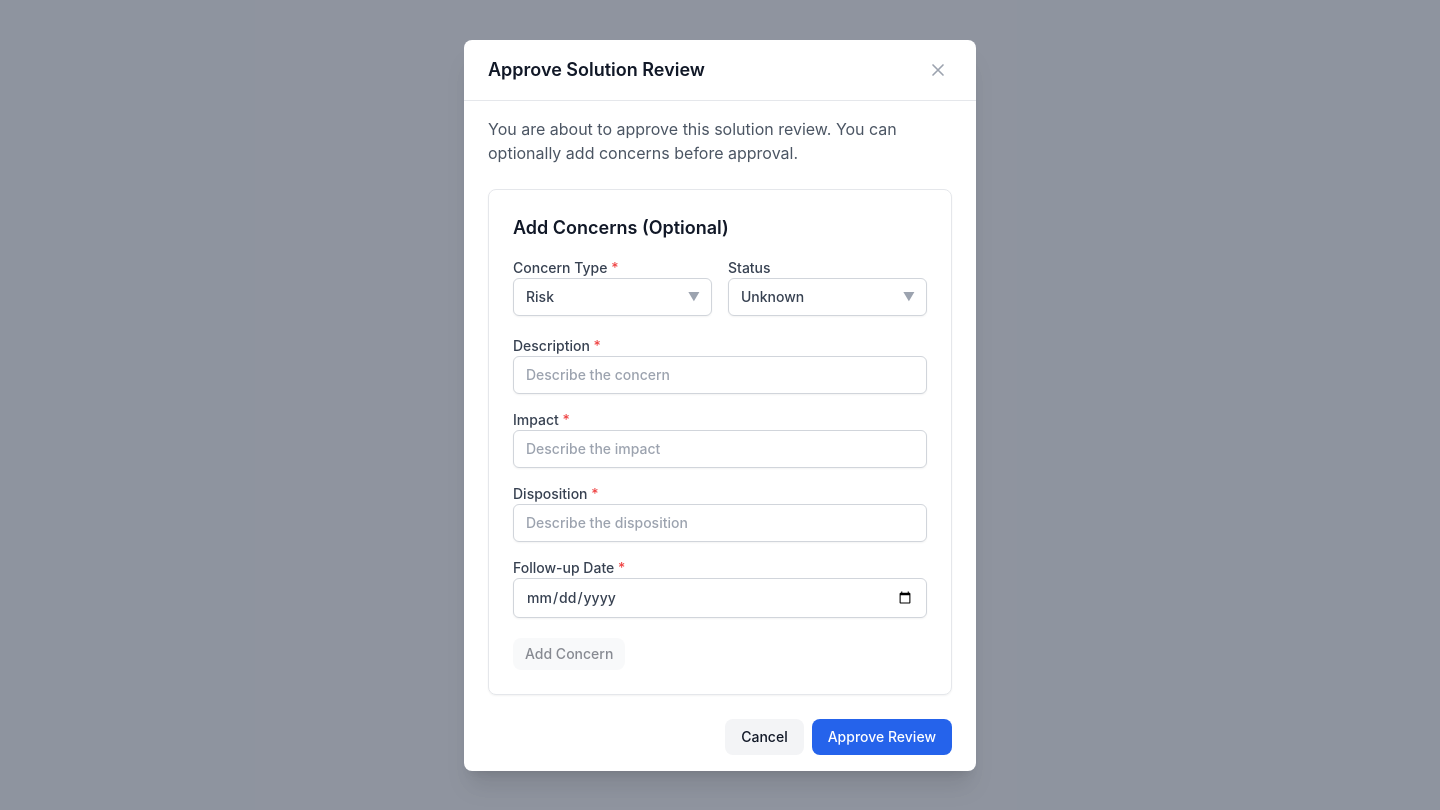
ApprovalModal › Removing Concerns › removes concern when delete button is clicked
Type "Test concern" into the field with placeholder "Describe the concern".
click(720, 374); type("Test concern")  # box [513,356,927,394]
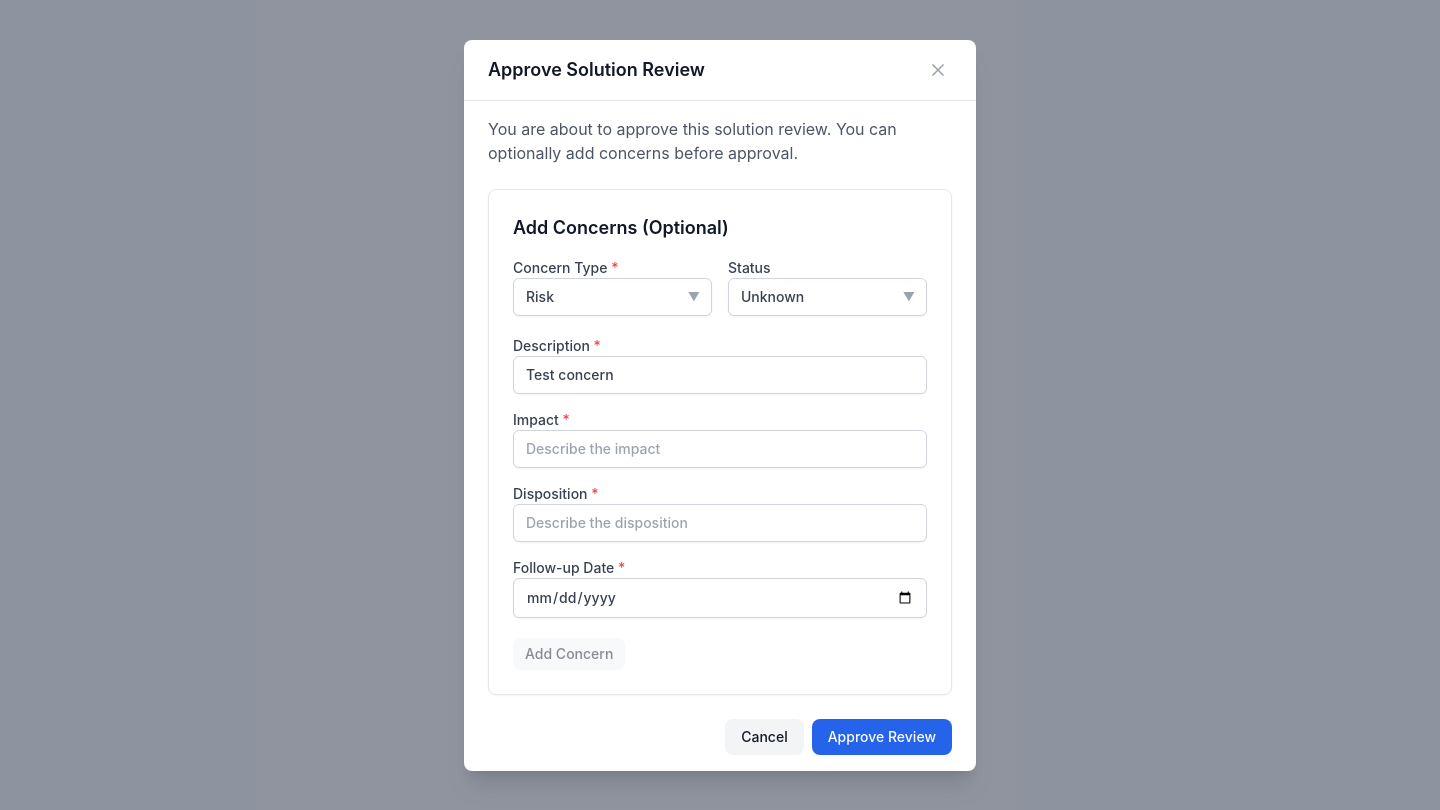
Type "Test impact" into the field with placeholder "Describe the impact".
click(720, 448); type("Test impact")  # box [513,430,927,468]
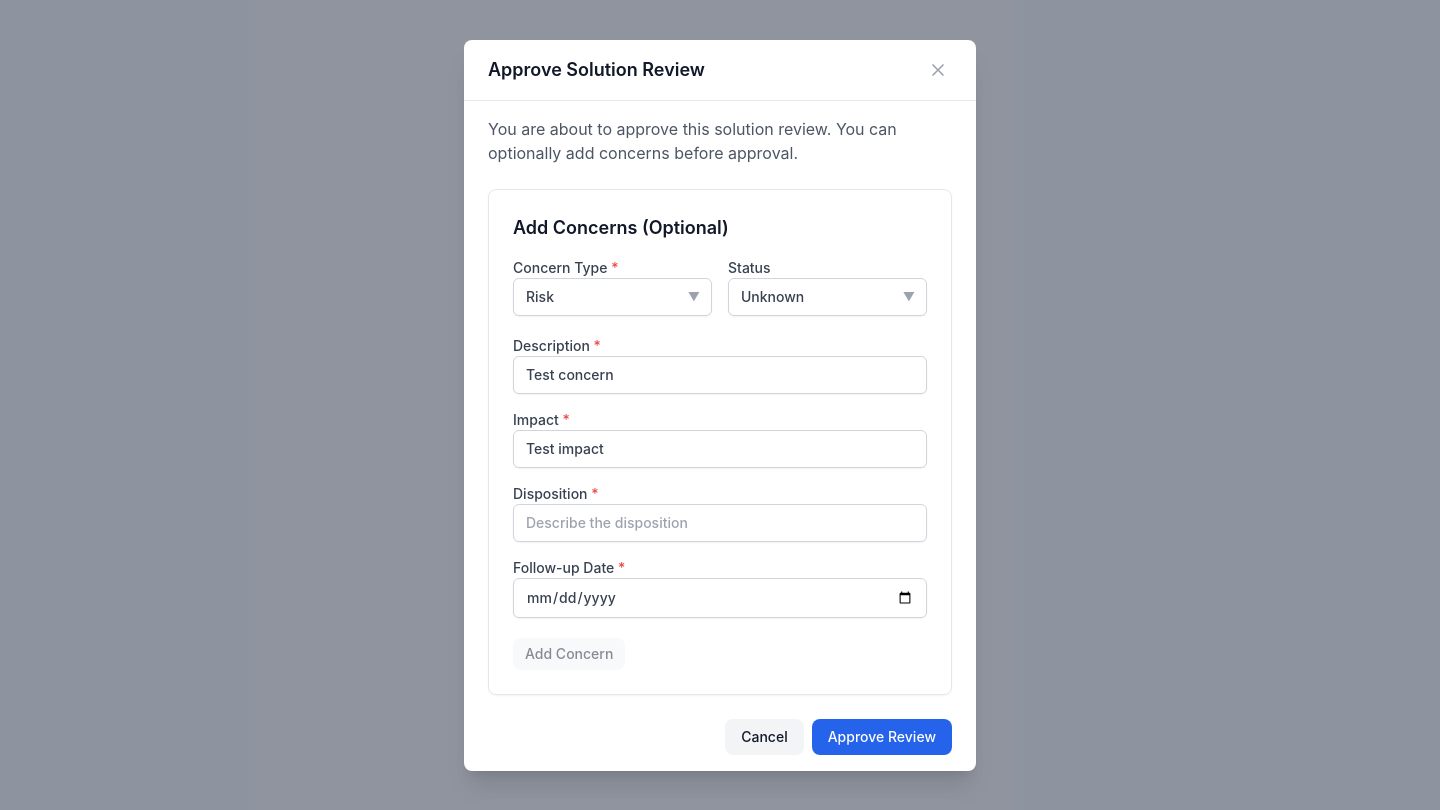
Type "Test disposition" into the field with placeholder "Describe the disposition".
click(720, 522); type("Test disposition")  # box [513,504,927,542]
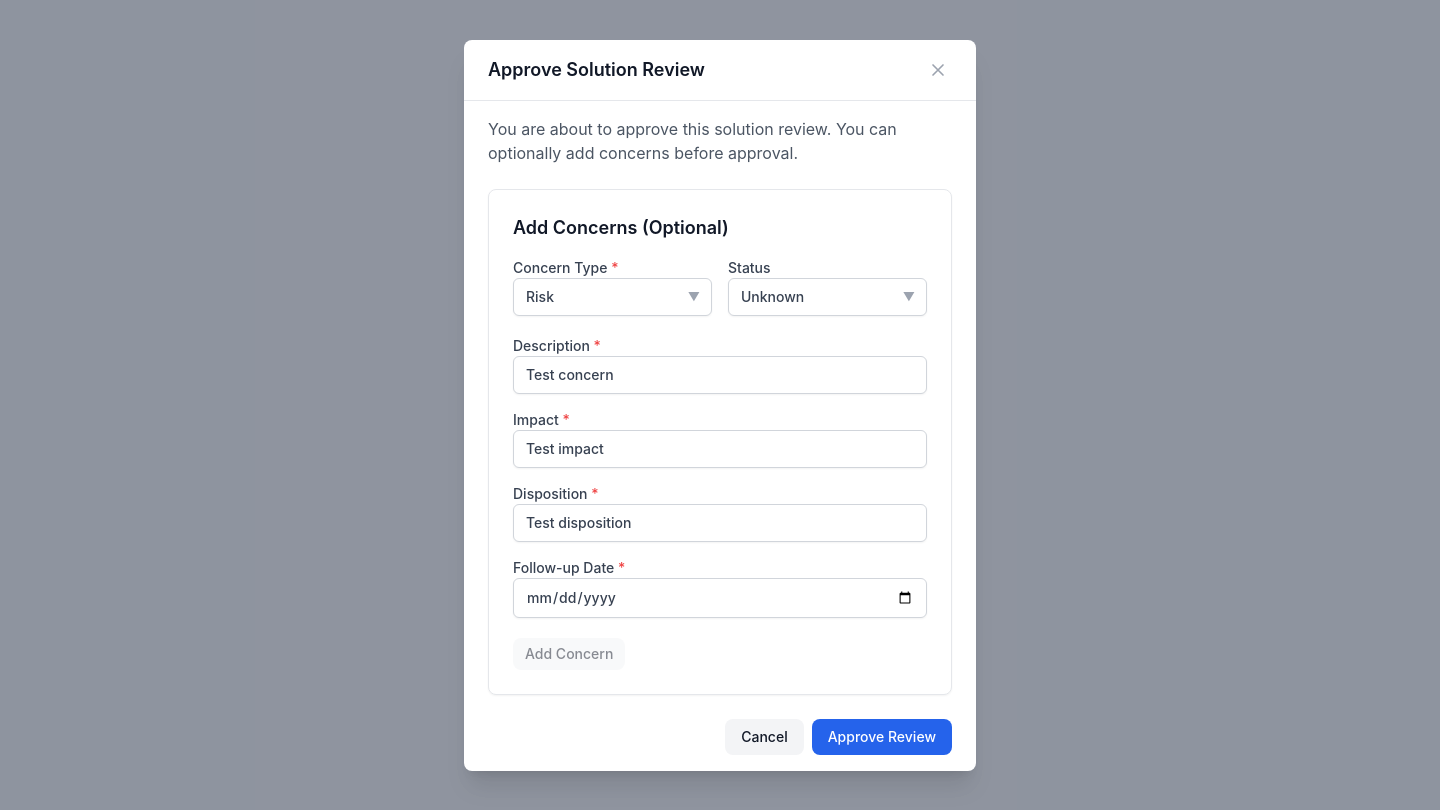
Type "2025-12-31" into the date field labelled "Follow-up Date *".
click(720, 598); type("2025-12-31")  # box [513,578,927,618]
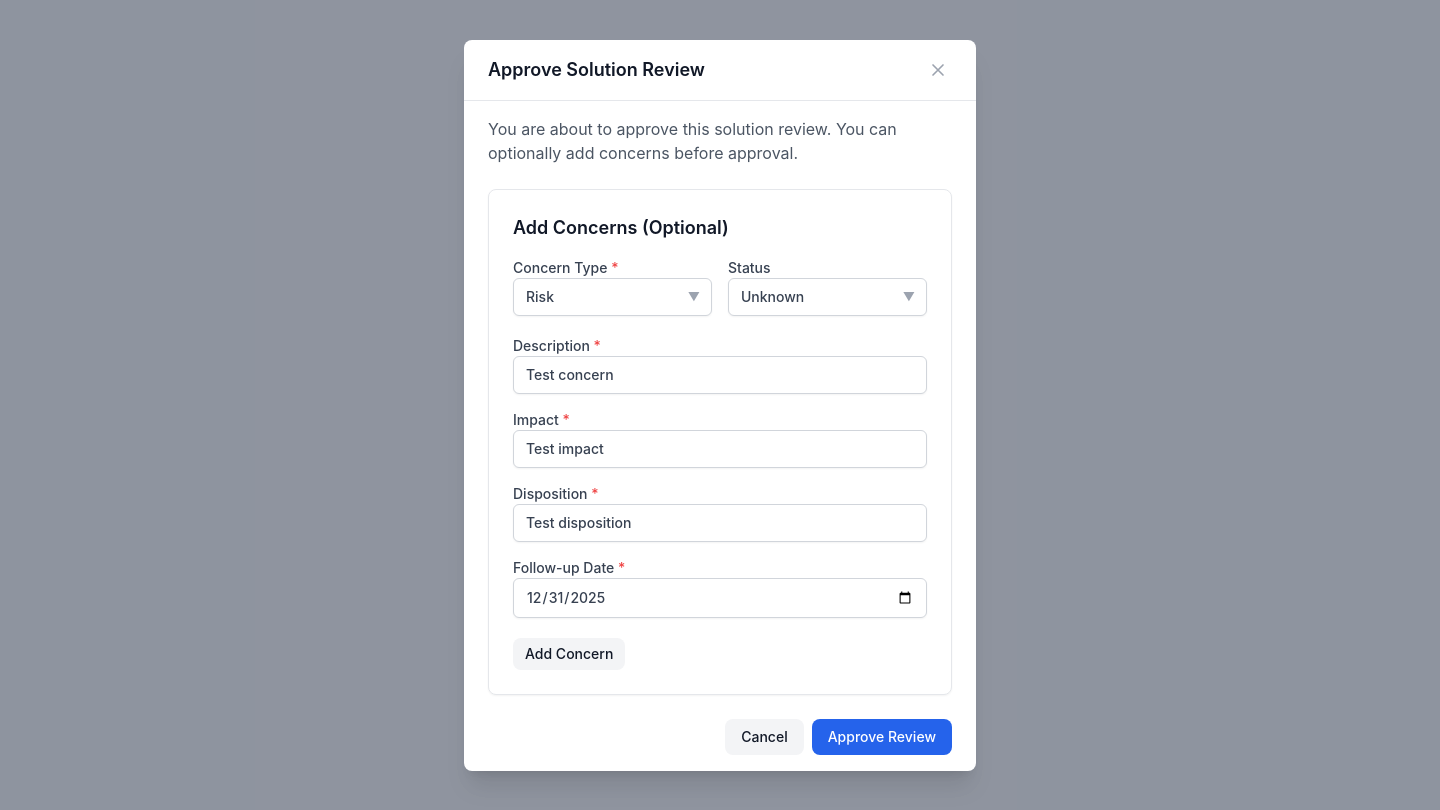
Click the button "Add Concern".
click(569, 654)  # box [513,638,625,670]
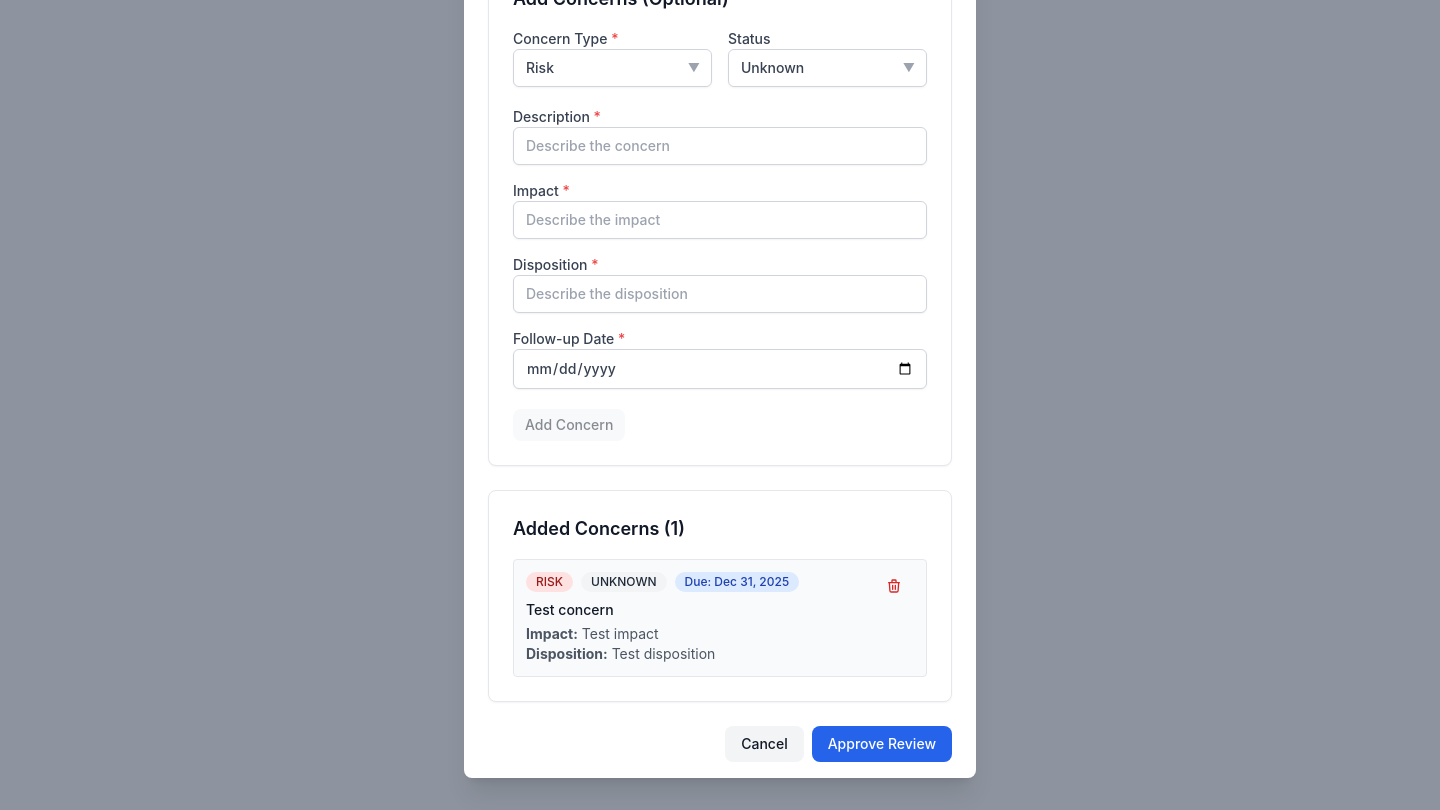
Result: the text "Test concern" is shown at [526,601,614,618]
Click the 2nd button.
click(894, 586)  # box [874,572,914,600]
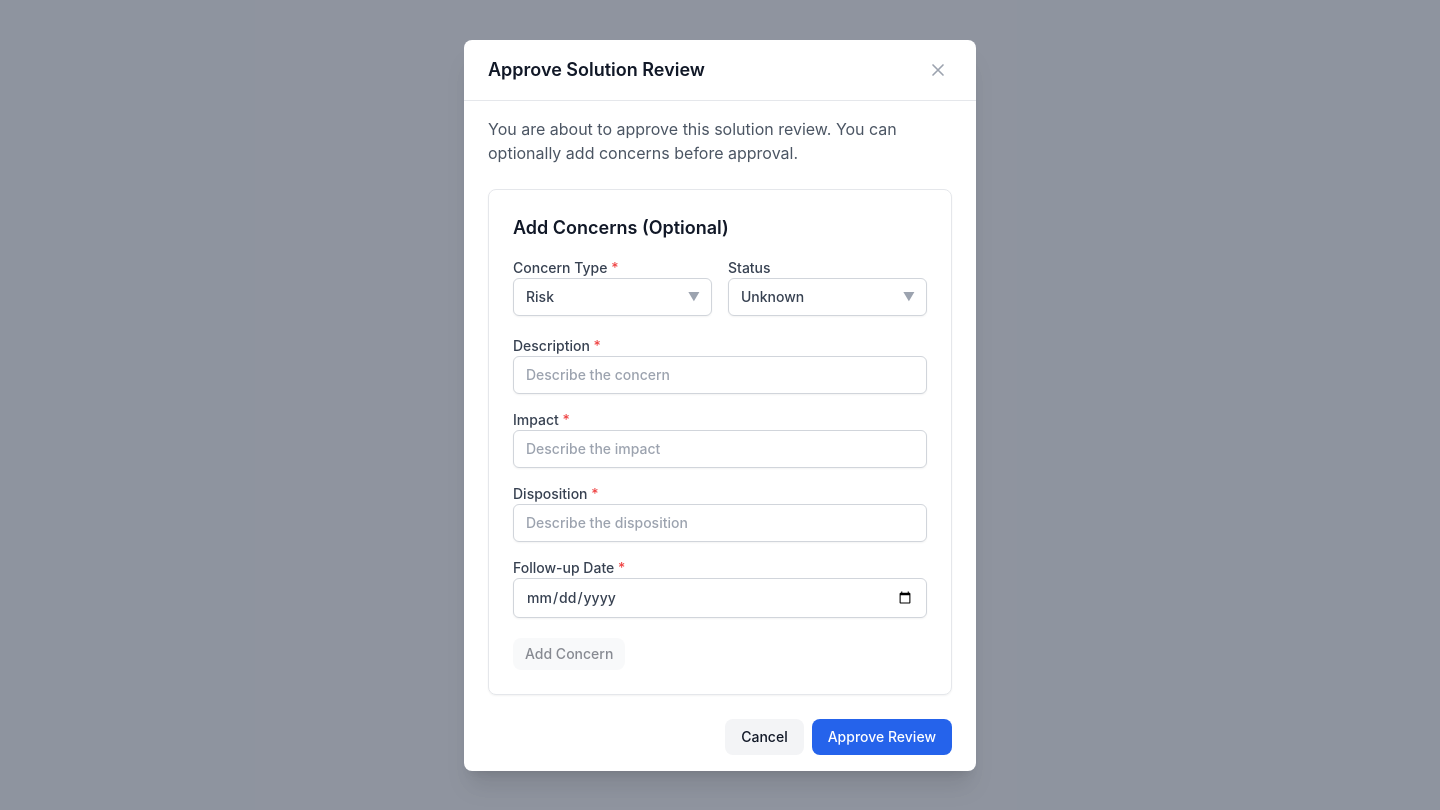
Result: the text "Test concern" is gone
